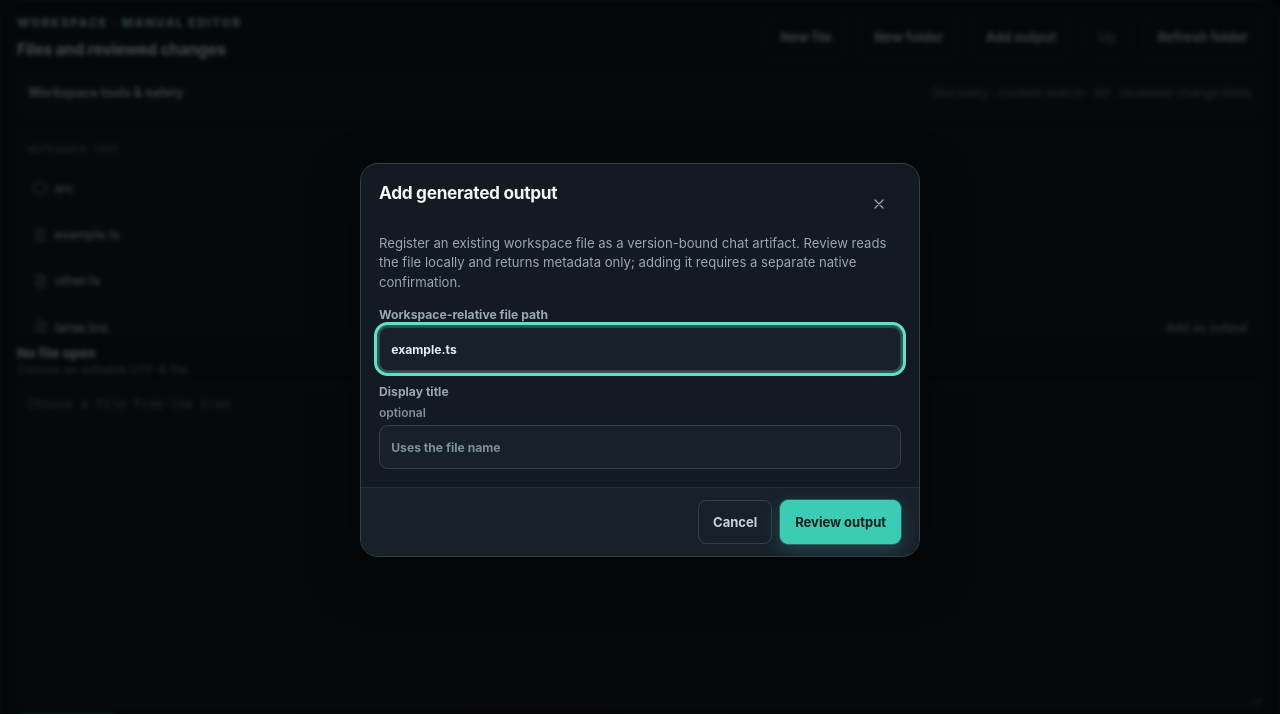
Test: workspace inspection truth › opens an exact reviewed-path capture request once without reading the file
Expected: the button "example.ts" is shown, [25,212,1255,256]
Expected: the field labelled "Workspace-relative file path" holds "example.ts", [379,327,901,371]
Step 1. Click the button "Cancel" → (735, 522), box [698,500,772,544]
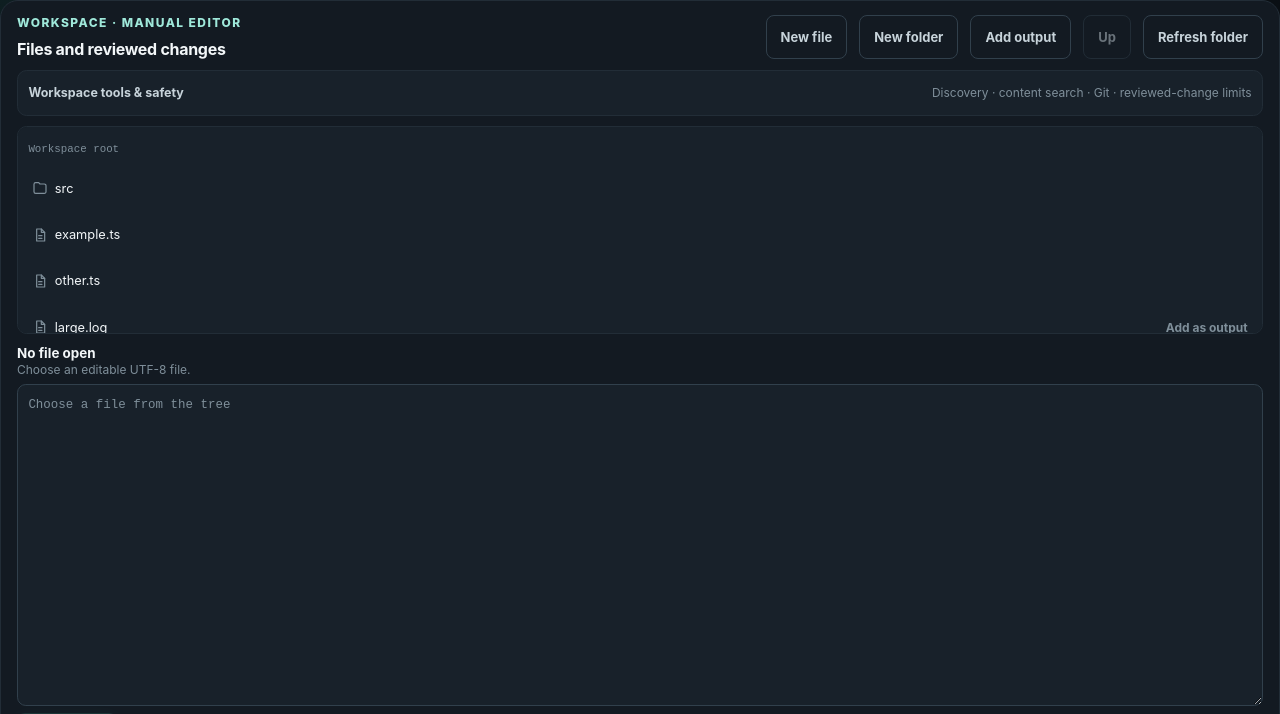
Expected: the heading "Add generated output" is gone
